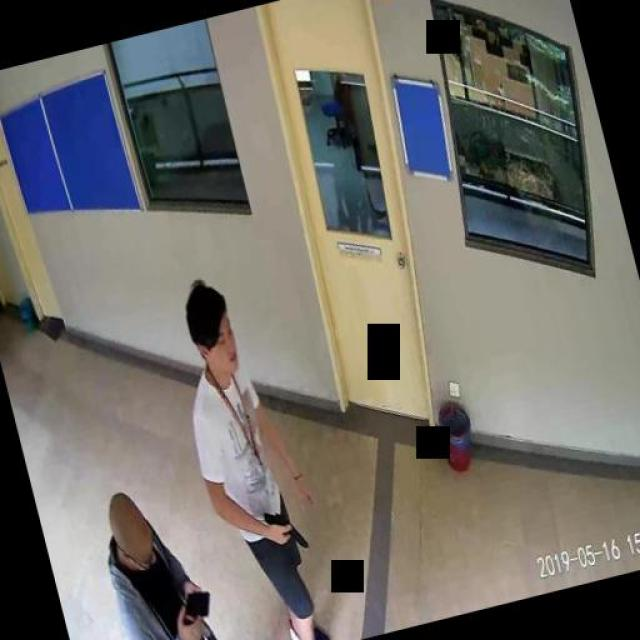gun: (262, 502, 308, 556)
